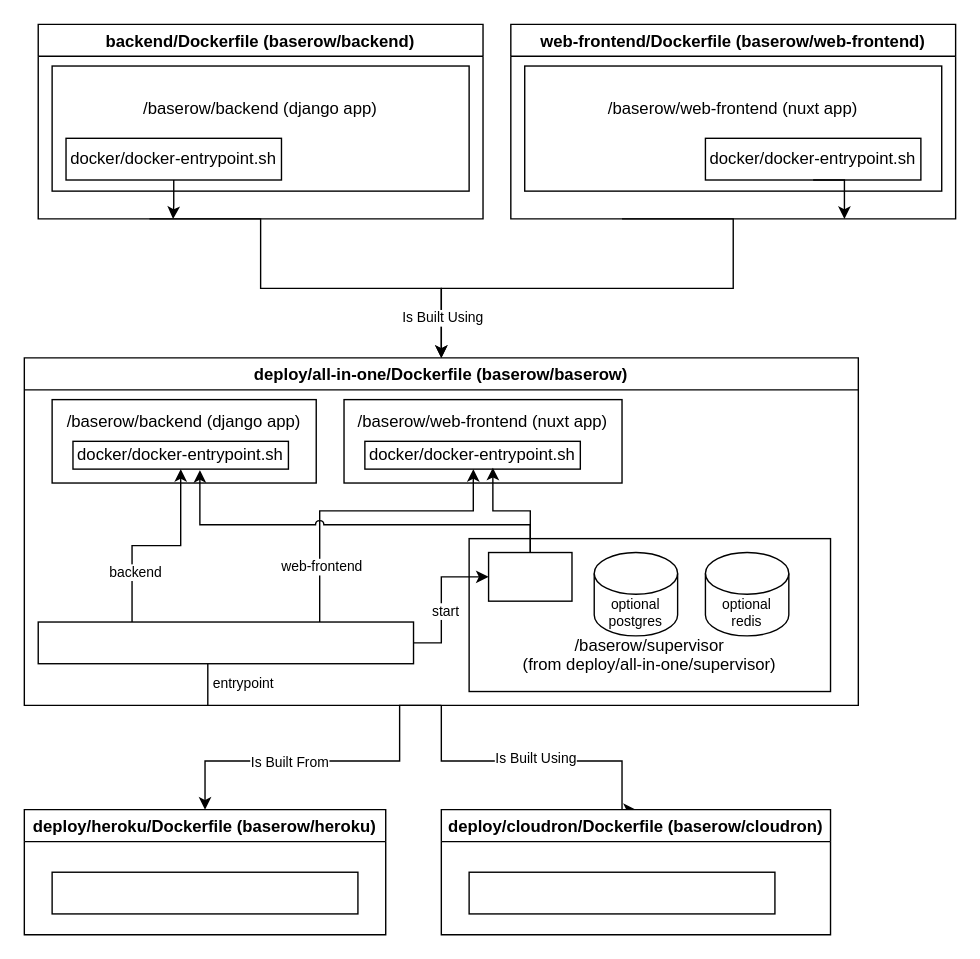
Image size: 980x959. Some labels were removed from this diagram. Each missing label, with the centre of its shape:
"/baserow/all-in-one/baserow.sh" goes at [225,642].
"deploy/cloudron/cloudron_env.sh" goes at [621,892].
"deploy/heroku/heroku_env.sh" goes at [204,892].
"start.sh" goes at [529,576].
